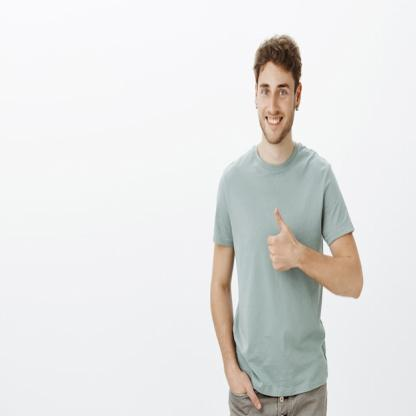thumb_up: (266, 204, 299, 276)
